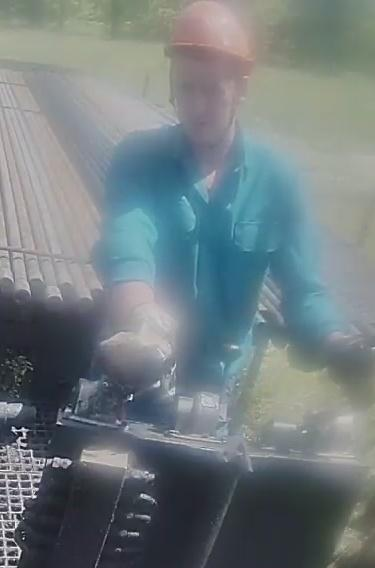gloves: (92, 298, 180, 388), (325, 322, 375, 408)
helmet: (162, 0, 257, 72)
vest: (92, 123, 317, 373)
